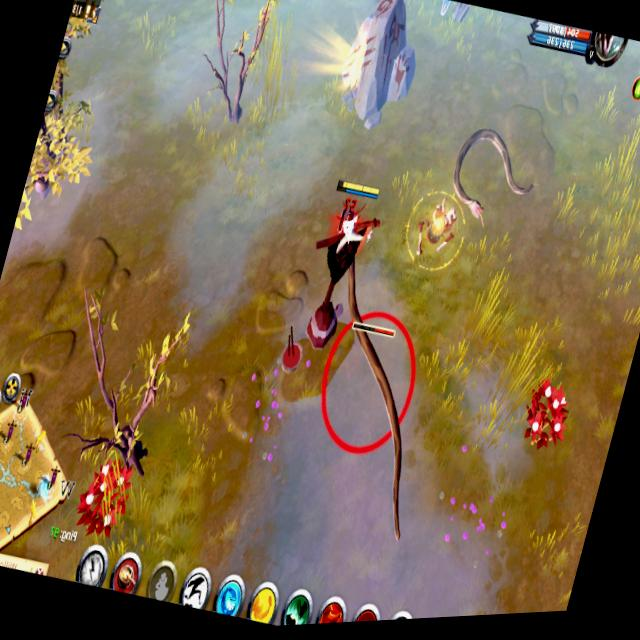hide: (68, 441, 144, 550), (512, 369, 580, 462), (429, 0, 460, 21)
ore: (273, 235, 471, 556)
red: (328, 169, 386, 215)
